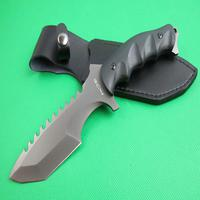knife: (7, 20, 171, 186)
